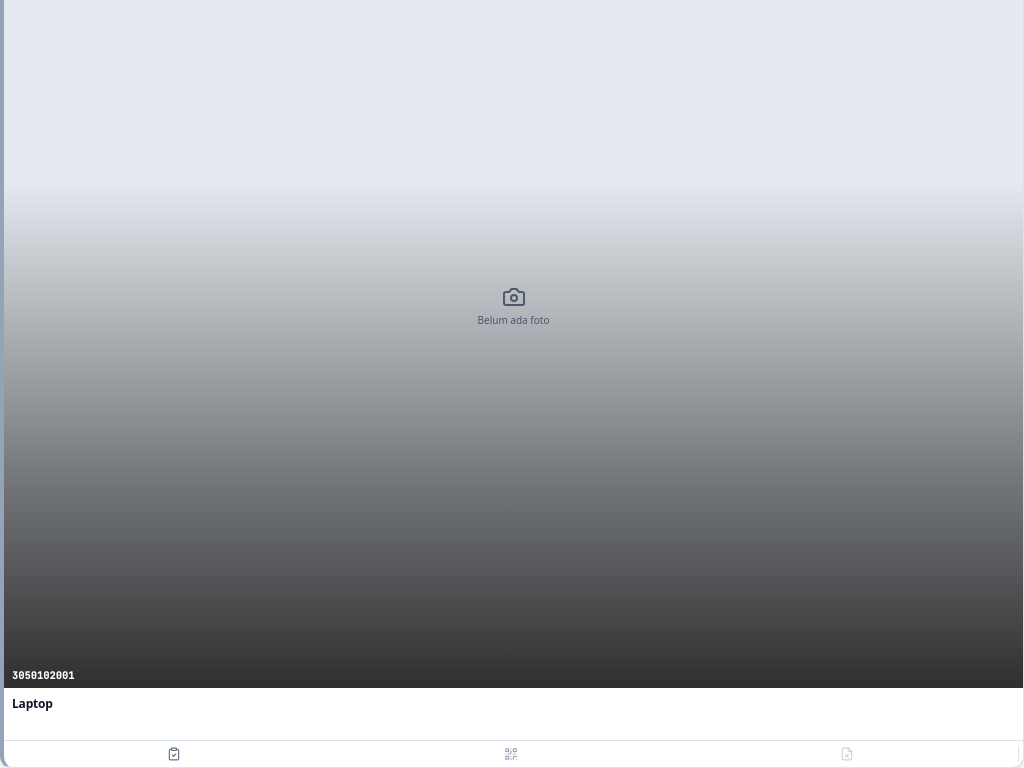
Scenario: popup stiker di kartu galeri › menyebut ukuran Kecil sebagai huruf TEBAL S
(page scrolled)
Click the button with test id "gallery-stiker-a1" at coordinates (511, 754), box [343, 741, 678, 767]
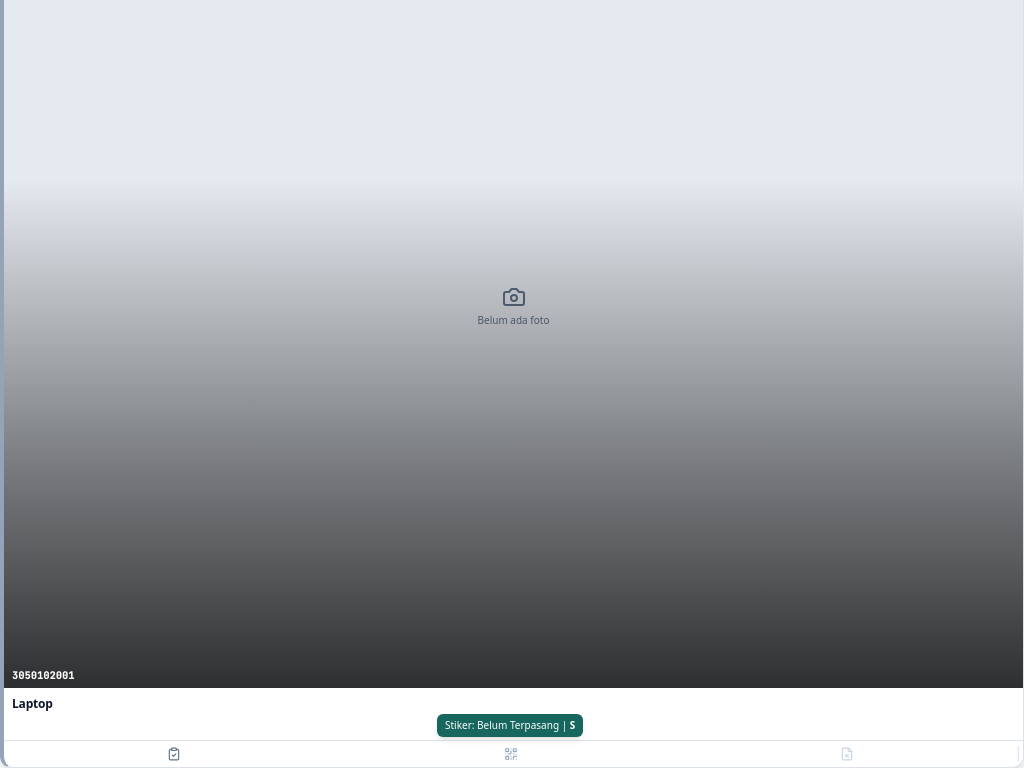
Expected: the dialog shows "Stiker: Belum Terpasang", [437, 714, 583, 737]
Expected: the text "S" is shown, [570, 718, 575, 732]
